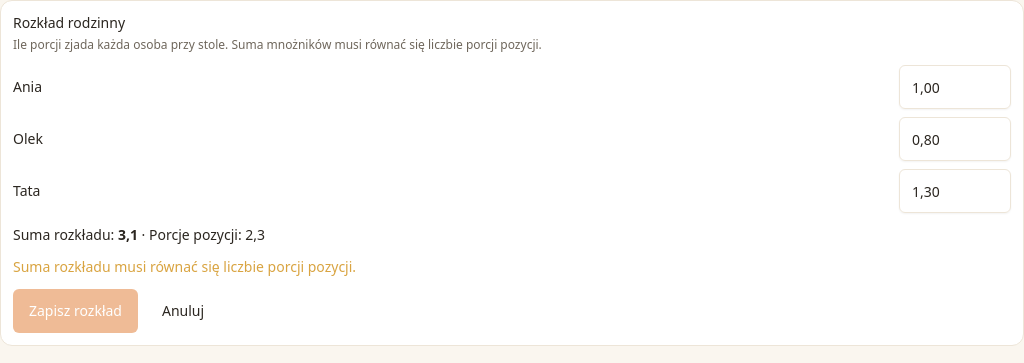
ServingsSplitDrawer › puste pole oznacza „ta osoba nie je tej pozycji"
Clear the field with test id "split-input-1" at (955, 87), box [899, 65, 1011, 109]
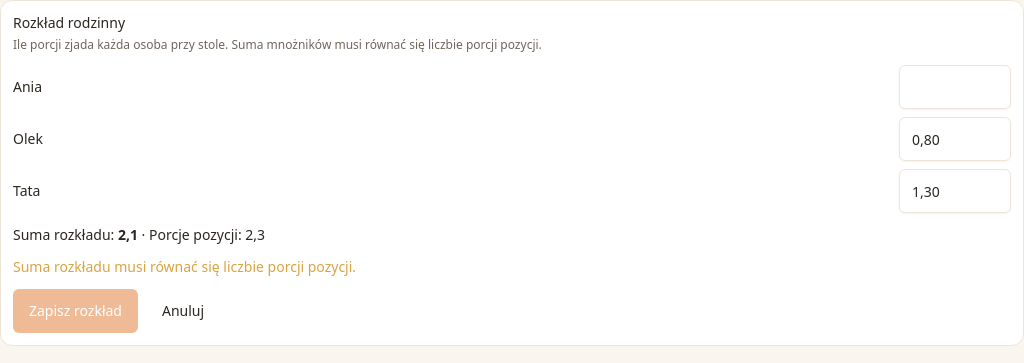
expect the message "Suma rozkładu musi równać się liczbie porcji pozycji." is shown: met, box [13, 257, 356, 276]
expect the element with test id "split-total" shows "2,1": met, box [118, 225, 138, 244]
